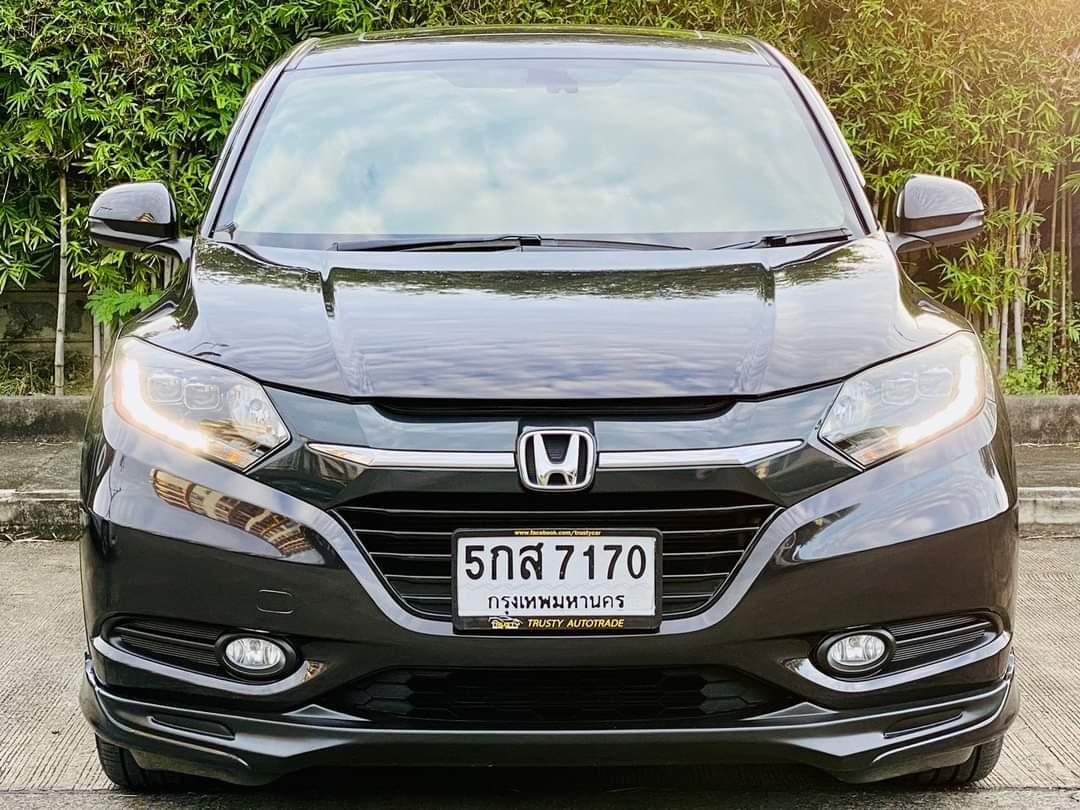license-plate: (449, 529, 662, 634)
